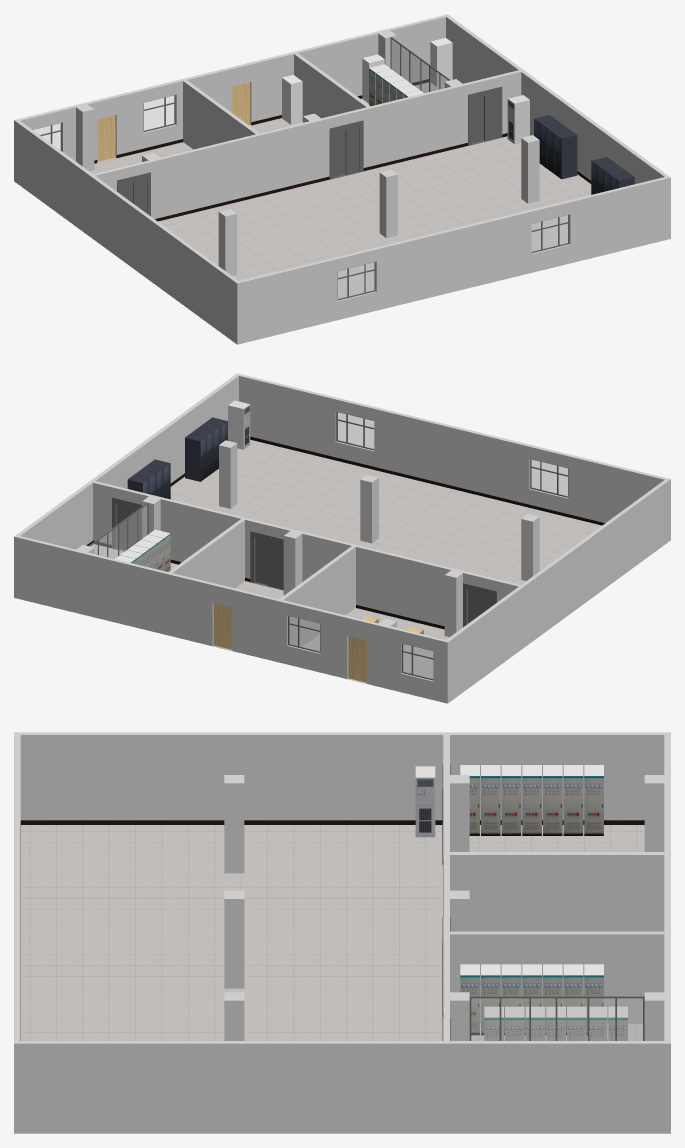
File: JiFang.gltf
3 views of the same model, one above another, from view 1: azimuth 30°, elevation 25°; view 2: azimuth 150°, elevation 25°; view 3: azimuth 270°, elevation 25° (orthographic). The views are drawn at different scales.
Visible parts, largest first — view 1: Wall, Obj3d66-848518-1-837, Window, Box007, Box006, Obj3d66-848518-126-826, Obj3d66-848518-3397-100, Door, Object004, Obj3d66-848518-3227-681, Obj3d66-848518-3249-599, Obj3d66-848518-3249-601 (+1 smaller); view 2: Wall, Obj3d66-848518-1-837, Window, Obj3d66-848518-3397-100, Box007, Door, Obj3d66-848518-126-826, Box006, Obj3d66-848518-3322-649, Obj3d66-848518-3227-680, Box008; view 3: Wall, Obj3d66-848518-1-837, Obj3d66-848518-126-826, Obj3d66-848518-3397-100, Obj3d66-848518-3235-26, Object010, Object013, Object009, Object011, Object012, Object014, Object021 (+14 smaller).
Part boxes in pixels (left/top/right/bottom): Wall: left=14, top=14, right=670, bottom=344; Obj3d66-848518-1-837: left=14, top=82, right=670, bottom=344; Window: left=32, top=95, right=569, bottom=300; Box007: left=329, top=120, right=363, bottom=179; Box006: left=468, top=86, right=502, bottom=145; Obj3d66-848518-126-826: left=390, top=37, right=450, bottom=92; Obj3d66-848518-3397-100: left=94, top=79, right=591, bottom=221; Door: left=97, top=82, right=250, bottom=161; Object004: left=555, top=130, right=577, bottom=179; Obj3d66-848518-3227-681: left=507, top=95, right=529, bottom=144; Obj3d66-848518-3249-599: left=430, top=38, right=452, bottom=86; Obj3d66-848518-3249-601: left=282, top=75, right=302, bottom=124; Wall: left=14, top=373, right=670, bottom=703; Obj3d66-848518-1-837: left=14, top=440, right=670, bottom=703; Window: left=288, top=411, right=568, bottom=680; Obj3d66-848518-3397-100: left=86, top=436, right=605, bottom=629; Box007: left=250, top=531, right=283, bottom=590; Door: left=213, top=603, right=366, bottom=682; Obj3d66-848518-126-826: left=88, top=502, right=148, bottom=558; Box006: left=112, top=497, right=142, bottom=551; Obj3d66-848518-3322-649: left=185, top=432, right=207, bottom=481; Obj3d66-848518-3227-680: left=228, top=400, right=250, bottom=449; Box008: left=463, top=583, right=496, bottom=627; Wall: left=14, top=732, right=670, bottom=1133; Obj3d66-848518-1-837: left=14, top=825, right=670, bottom=1133; Obj3d66-848518-126-826: left=469, top=996, right=644, bottom=1040; Obj3d66-848518-3397-100: left=20, top=820, right=644, bottom=1040; Obj3d66-848518-3235-26: left=415, top=766, right=435, bottom=837; Object010: left=563, top=765, right=583, bottom=835; Object013: left=501, top=765, right=521, bottom=835; Object009: left=584, top=765, right=603, bottom=835; Object011: left=543, top=765, right=562, bottom=835; Object012: left=522, top=765, right=541, bottom=835; Object014: left=481, top=765, right=500, bottom=835; Object021: left=460, top=964, right=479, bottom=1035.
Size of the model in its own units: 22.34 by 3.01 by 19.91.
Materials: 25 (8 with a texture image).
